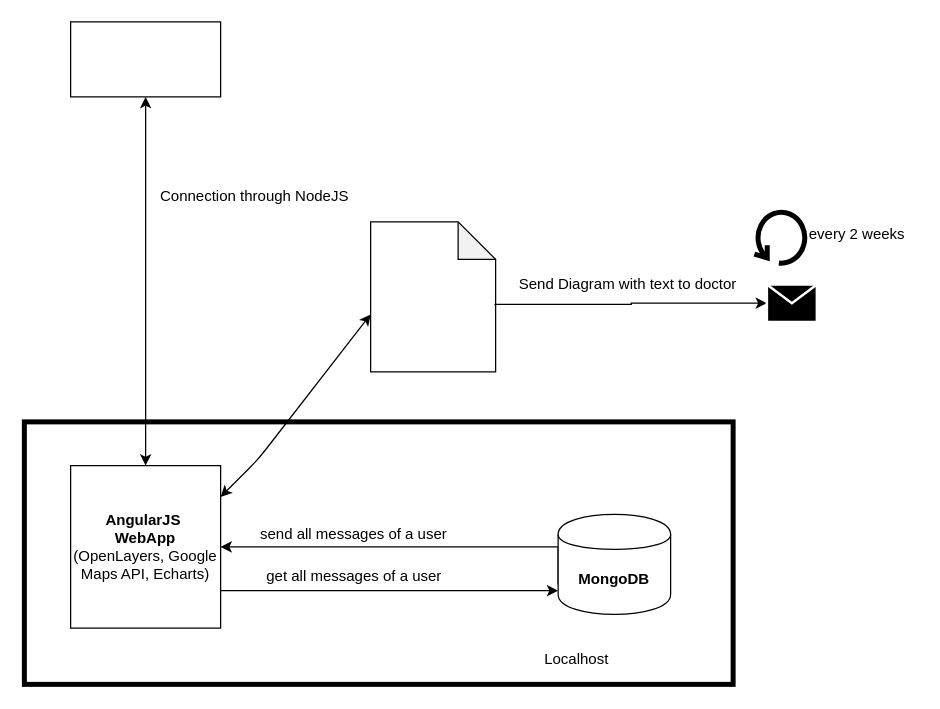
This 940x709 diagram has some shape labels left out. Each missing label, with the centre of its shape:
"Python-Script: Create Diagrams from measured data" belongs at (432,296).
"Watson Assistant" belongs at (145,59).
